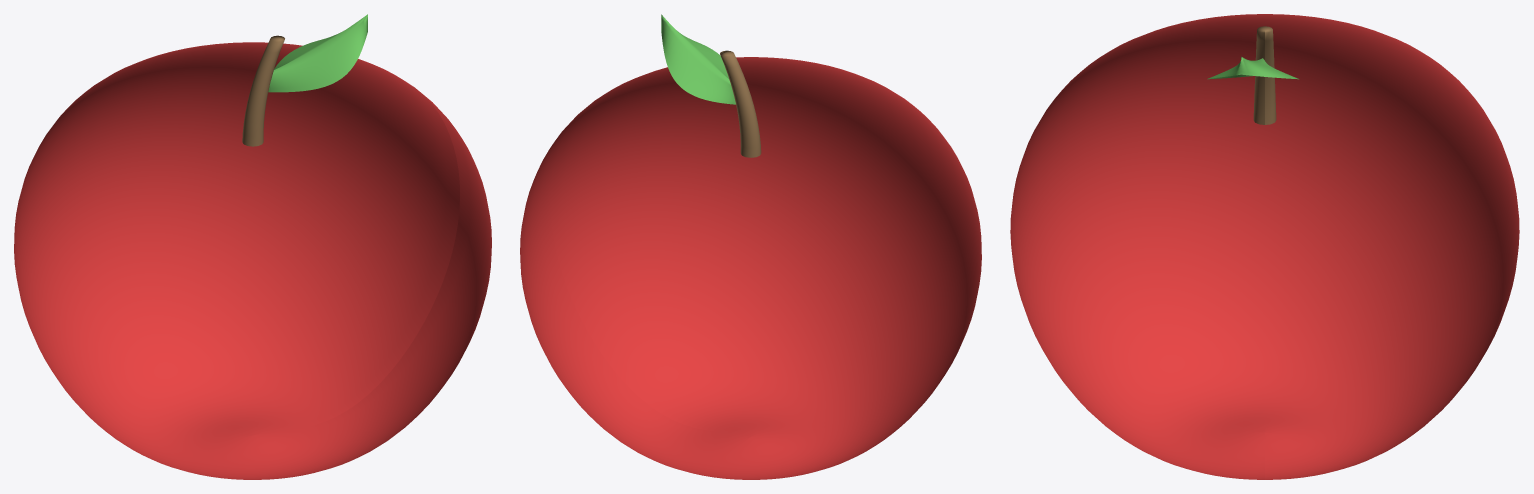
3 renders of one model, left to right at view 1: azimuth 30°, elevation 25°; view 2: azimuth 150°, elevation 25°; view 3: azimuth 270°, elevation 25°, orthographic. The views are drawn at different scales.
Parts seen in each view (by area): view 1: Cuerpo, Hoja, Tallo; view 2: Cuerpo, Hoja, Tallo; view 3: Cuerpo, Tallo, Hoja.
Part boxes in pixels (x1,y1,x2,y2): Cuerpo: [14, 42, 491, 479]; Hoja: [268, 14, 367, 92]; Tallo: [242, 35, 284, 146]; Cuerpo: [520, 57, 981, 479]; Hoja: [661, 14, 735, 104]; Tallo: [720, 50, 761, 157]; Cuerpo: [1010, 14, 1519, 479]; Tallo: [1253, 26, 1276, 124]; Hoja: [1207, 56, 1298, 79].
Size of the model in its own units: 2.01 by 1.89 by 2.01.
